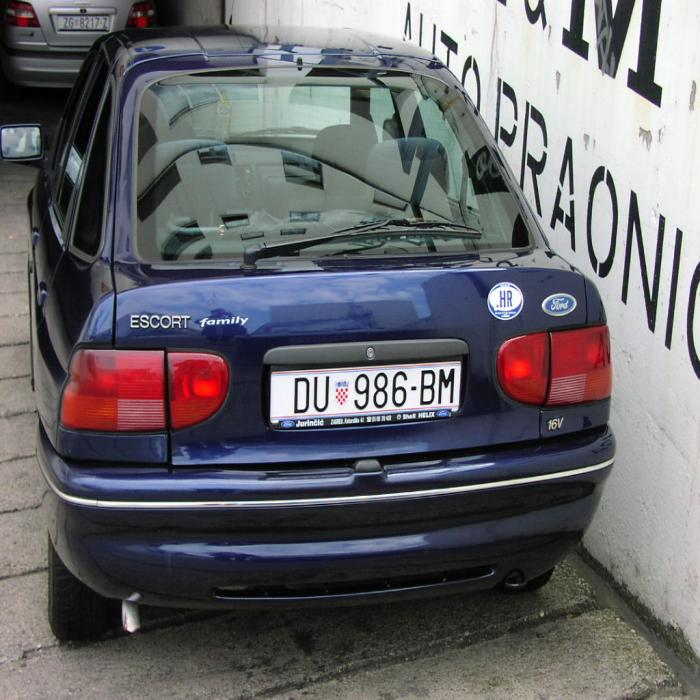number_plate: (272, 366, 461, 411)
